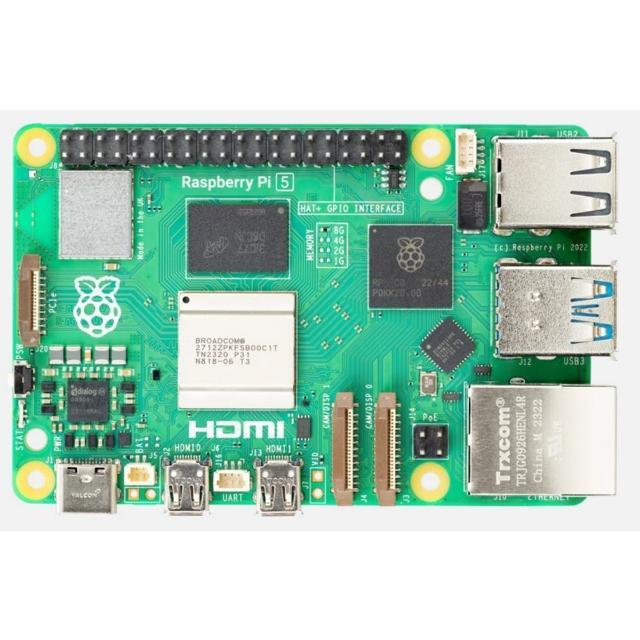Raspberry-Pi-5: (13, 124, 618, 516)
